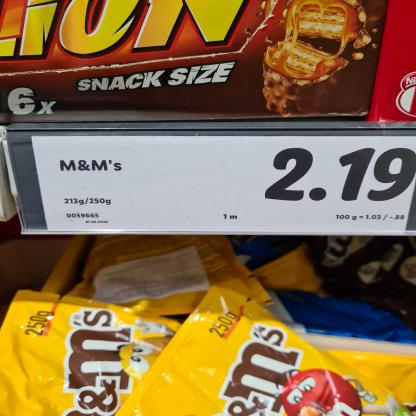prtg: (31, 137, 415, 236)
